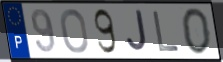9: (30, 8, 58, 55), (92, 8, 118, 55)
J: (125, 9, 149, 54)
L: (151, 10, 181, 53)
O: (180, 7, 213, 57), (59, 7, 91, 55)
